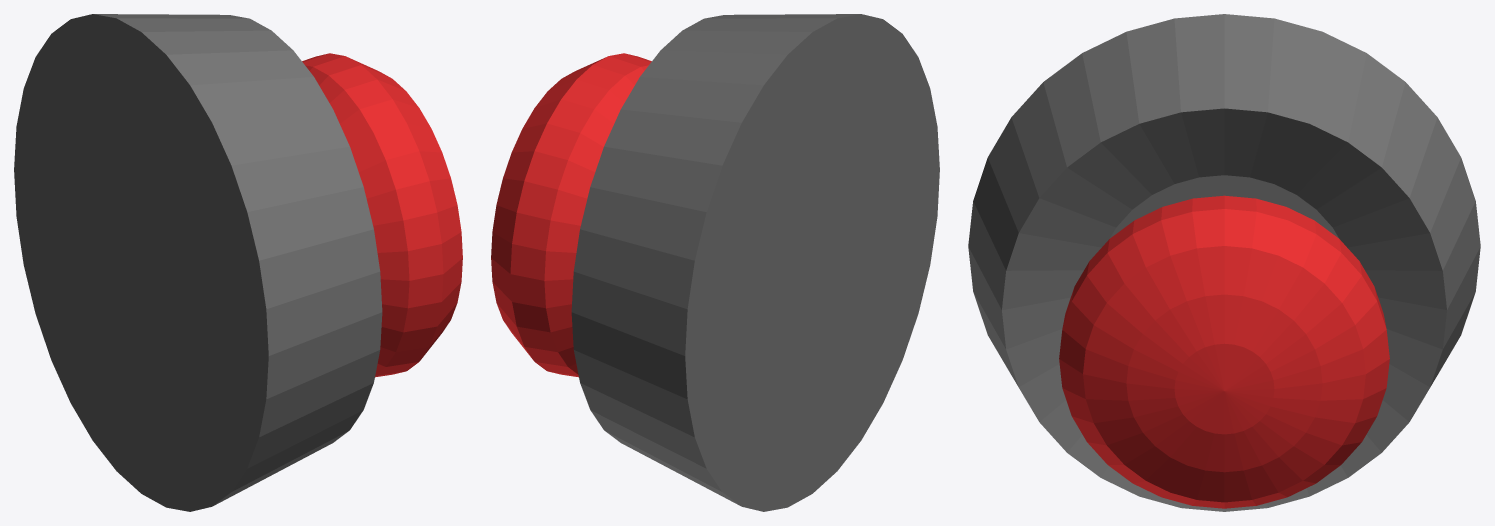
Rendered from botton2.fbx.
The picture shows the model from 3 angles, left to right: view 1: azimuth 30°, elevation 25°; view 2: azimuth 150°, elevation 25°; view 3: azimuth 270°, elevation 25°; orthographic projection.
Parts seen in each view (by area): view 1: 円柱, 球; view 2: 円柱, 球; view 3: 円柱, 球.
Boxes of the visible parts, x1,y1,x2,y2 form: 円柱: (14,14,382,511); 球: (302,53,462,377); 円柱: (571,14,939,511); 球: (491,53,651,377); 円柱: (968,14,1480,511); 球: (1059,195,1389,508).
Bounding box in the file's own units: 130 × 200 × 200.
